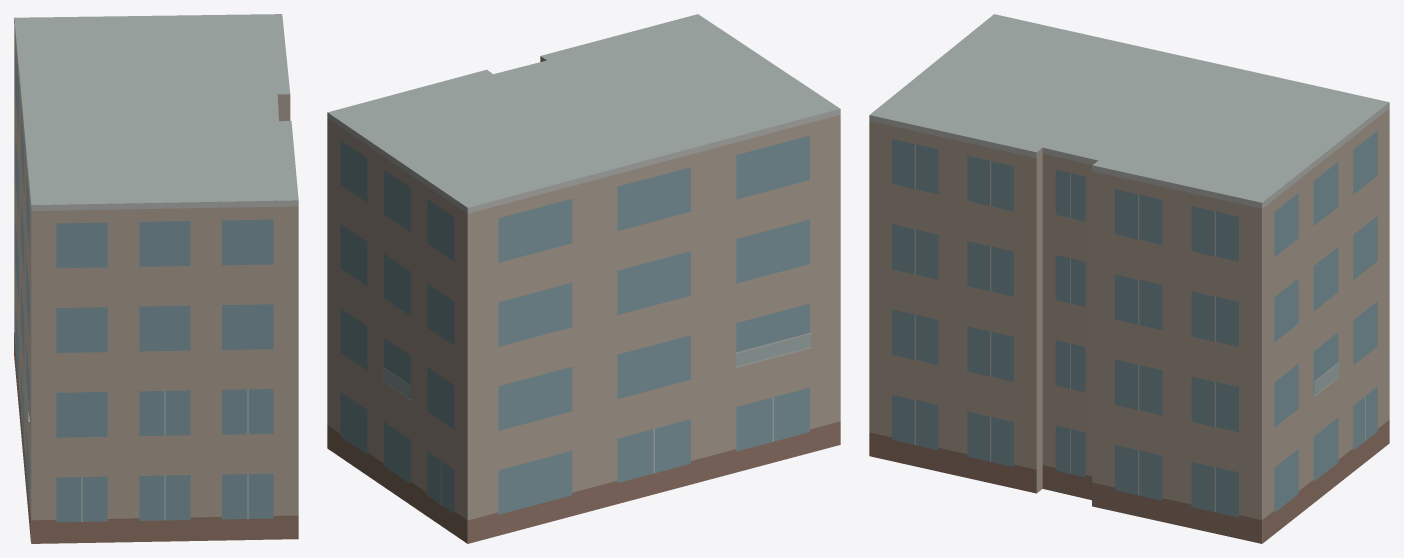
The model's file is survey-upis-32656177.glb.
3 renders of one model, left to right at view 1: azimuth 30°, elevation 25°; view 2: azimuth 150°, elevation 25°; view 3: azimuth 270°, elevation 25°, orthographic.
Visible parts, largest first — view 1: survey-upis-32656177.tmp; view 2: survey-upis-32656177.tmp; view 3: survey-upis-32656177.tmp.
Part boxes in pixels (x1,y1,x2,y2): survey-upis-32656177.tmp: (14, 14, 298, 543); survey-upis-32656177.tmp: (327, 14, 840, 543); survey-upis-32656177.tmp: (869, 14, 1389, 543).
Size of the model in its own units: 16.51 by 13.9 by 19.22.
